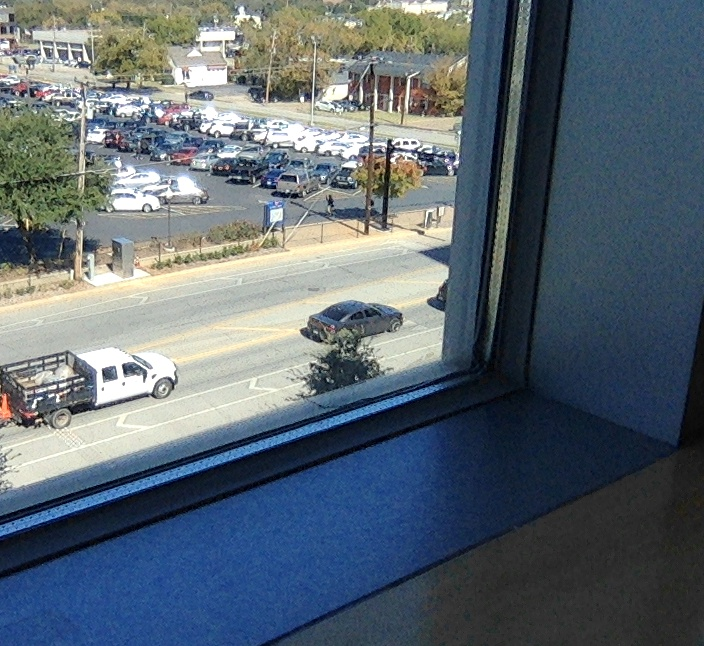car: (300, 300, 404, 346)
